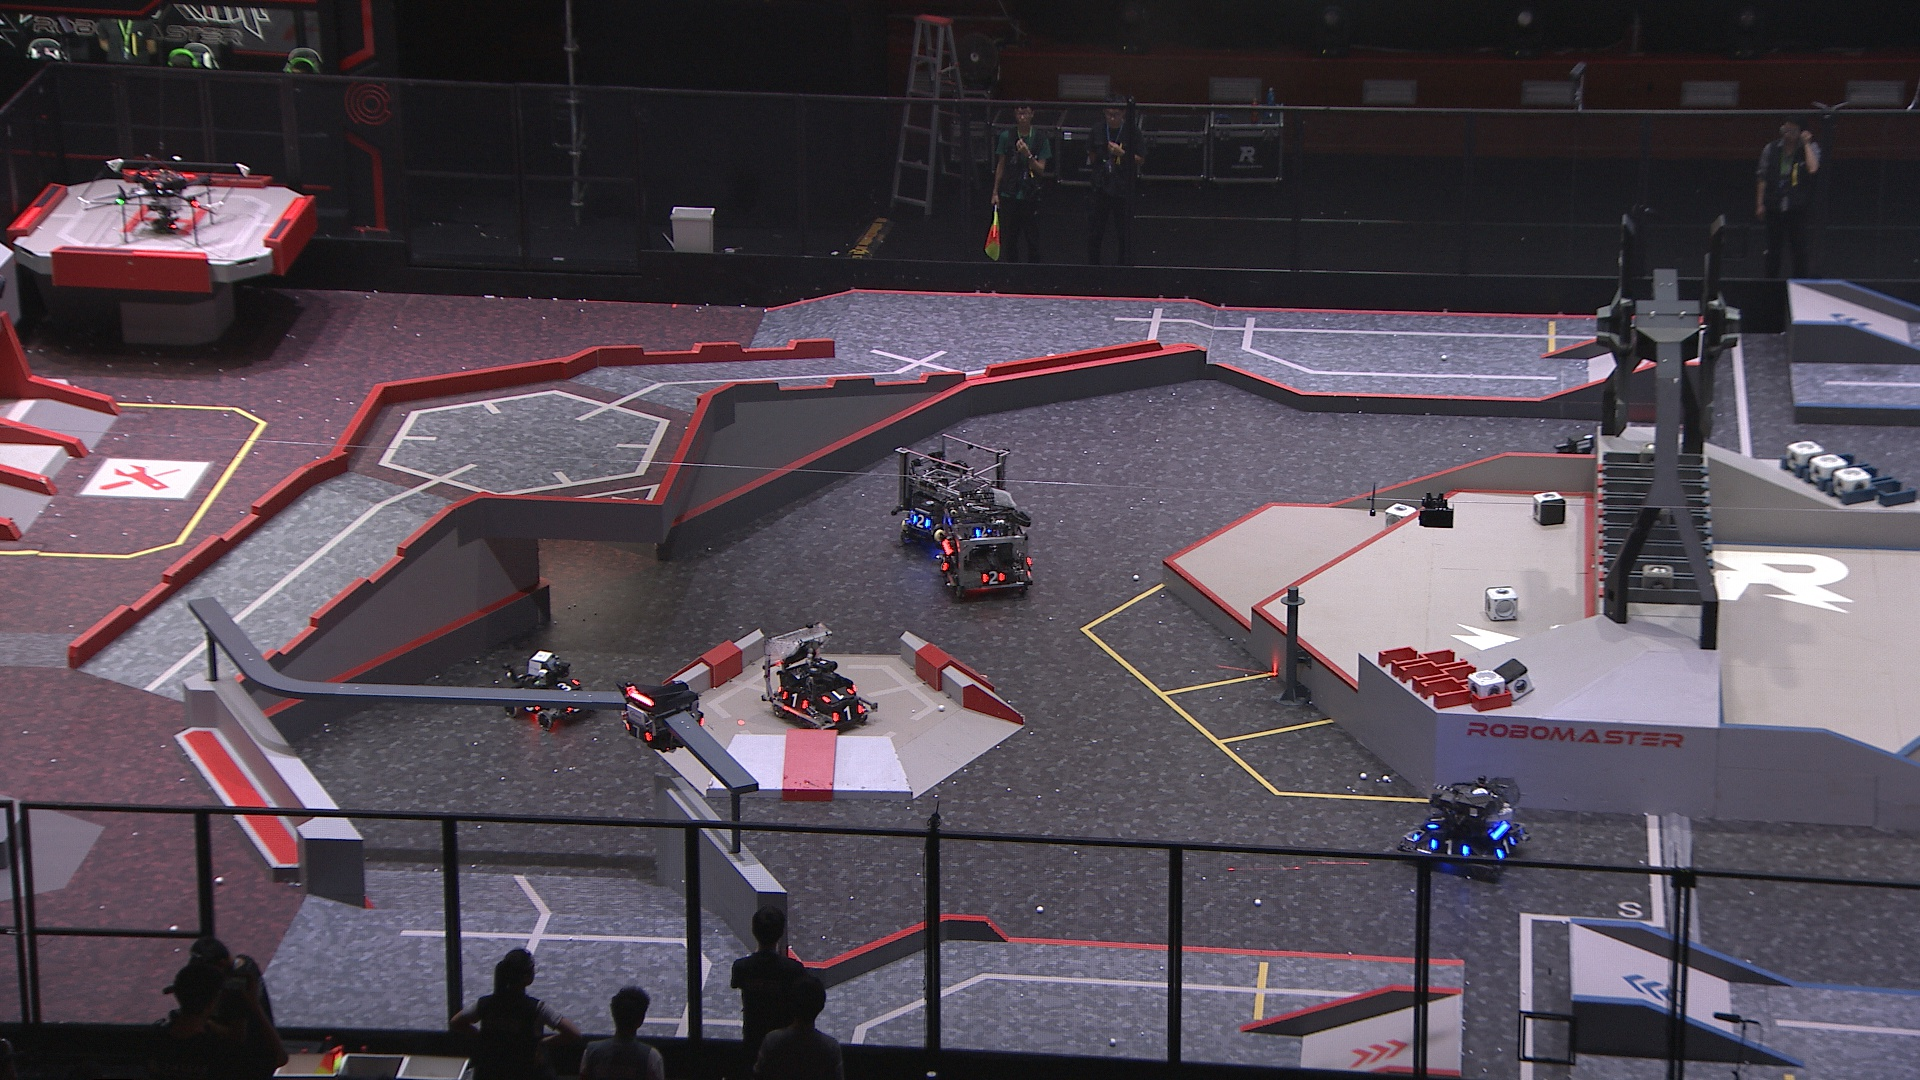armor: (1429, 839, 1472, 858), (622, 723, 655, 744), (833, 704, 864, 725), (782, 692, 811, 713), (1495, 835, 1518, 860), (978, 568, 1007, 585), (822, 688, 855, 703), (553, 676, 580, 692), (910, 514, 934, 531), (1424, 814, 1447, 831), (934, 555, 953, 574)
car: (889, 433, 1007, 551), (1396, 777, 1527, 884), (761, 622, 880, 732), (934, 483, 1039, 599), (496, 651, 600, 731)
watcher: (618, 683, 703, 756)
